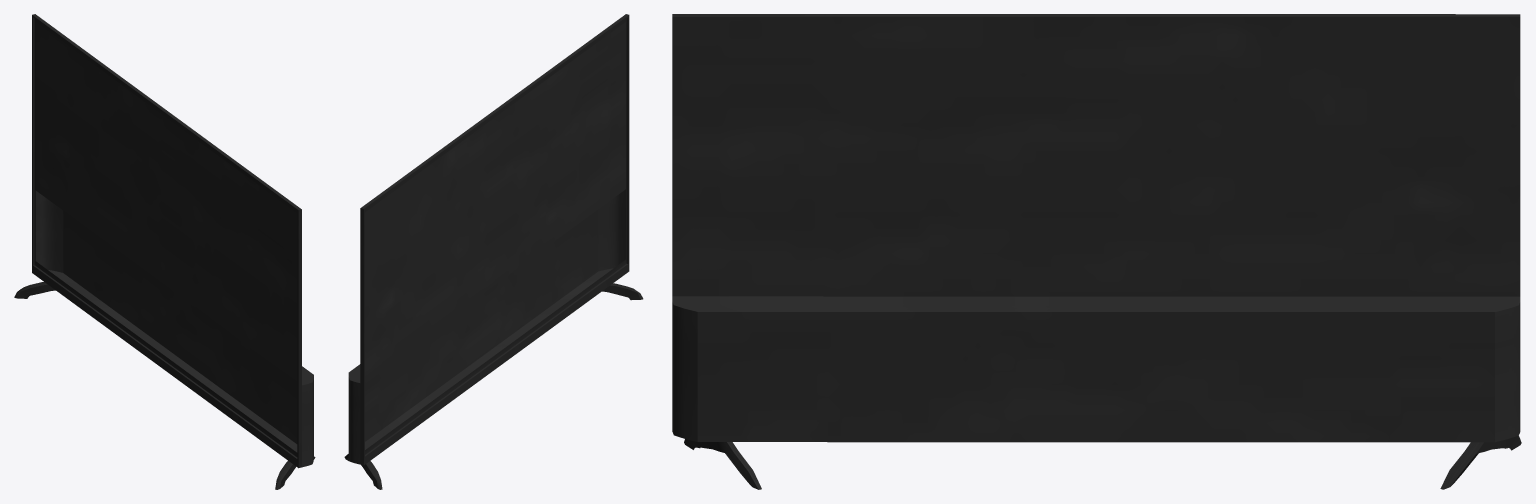
The model's file is tele.glb.
3 renders of one model, left to right at view 1: azimuth 30°, elevation 25°; view 2: azimuth 150°, elevation 25°; view 3: azimuth 270°, elevation 25°, orthographic. The views are drawn at different scales.
Parts seen in each view (by area): view 1: Television_ScreenTexture2_0; view 2: Television_ScreenTexture2_0; view 3: Television_ScreenTexture2_0.
Part boxes in pixels (<box>): Television_ScreenTexture2_0: <box>14,14,315,489</box>; Television_ScreenTexture2_0: <box>344,14,643,489</box>; Television_ScreenTexture2_0: <box>672,14,1521,489</box>.
Size of the model in its own units: 1.01 by 4.28 by 7.45.
1 material, 1 textured.
